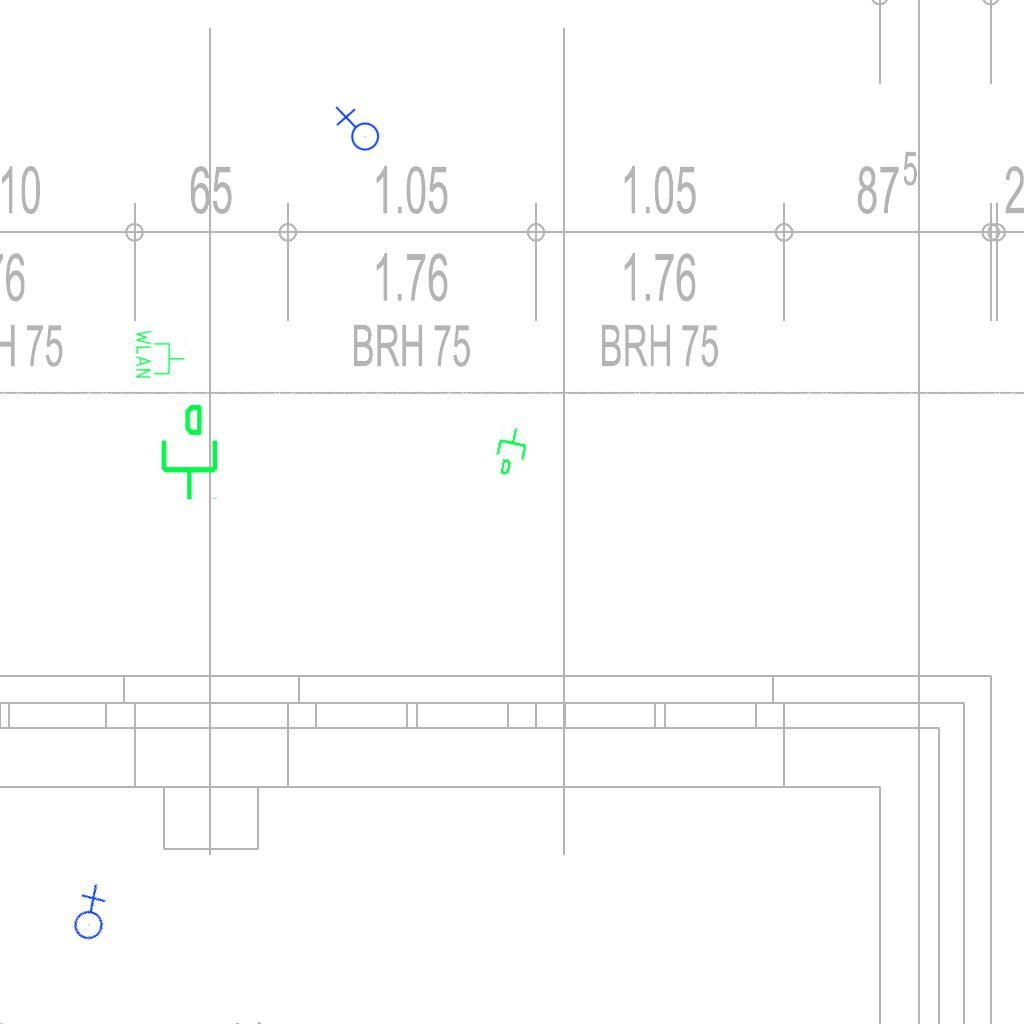Datenanschluss_einfach: (153, 402, 222, 502), (490, 424, 534, 480)
Elektroanschluss_allgemein_230V_Geraeteanschlussdose_230V: (54, 881, 123, 948), (333, 106, 380, 155)
WLAN: (134, 328, 186, 380)
